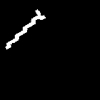half_double_crochet: (6, 10, 44, 48)
